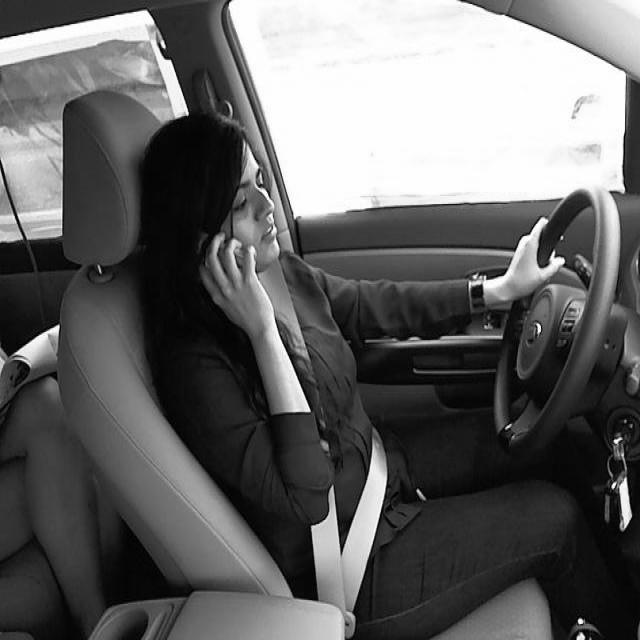phone: (199, 240, 264, 328)
wheel: (485, 216, 623, 457), (144, 102, 282, 293)
